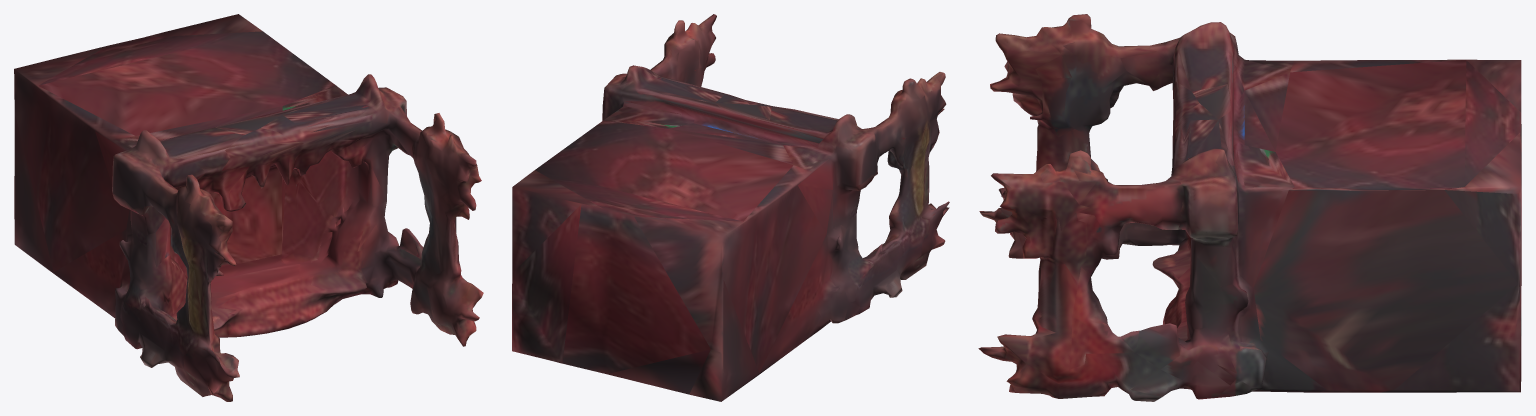
File: CF_MonsterBox.fbx
3 renders of one model, left to right at view 1: azimuth 30°, elevation 25°; view 2: azimuth 150°, elevation 25°; view 3: azimuth 270°, elevation 25°, orthographic. The views are drawn at different scales.
Parts seen in each view (by area): view 1: CF_MonsterBox; view 2: CF_MonsterBox; view 3: CF_MonsterBox.
Boxes of the visible parts, x1,y1,x2,y2 form: CF_MonsterBox: (14,14,483,401); CF_MonsterBox: (512,14,949,401); CF_MonsterBox: (978,14,1521,401).
Bounding box in the file's own units: 5.49 × 4.01 × 7.9.
